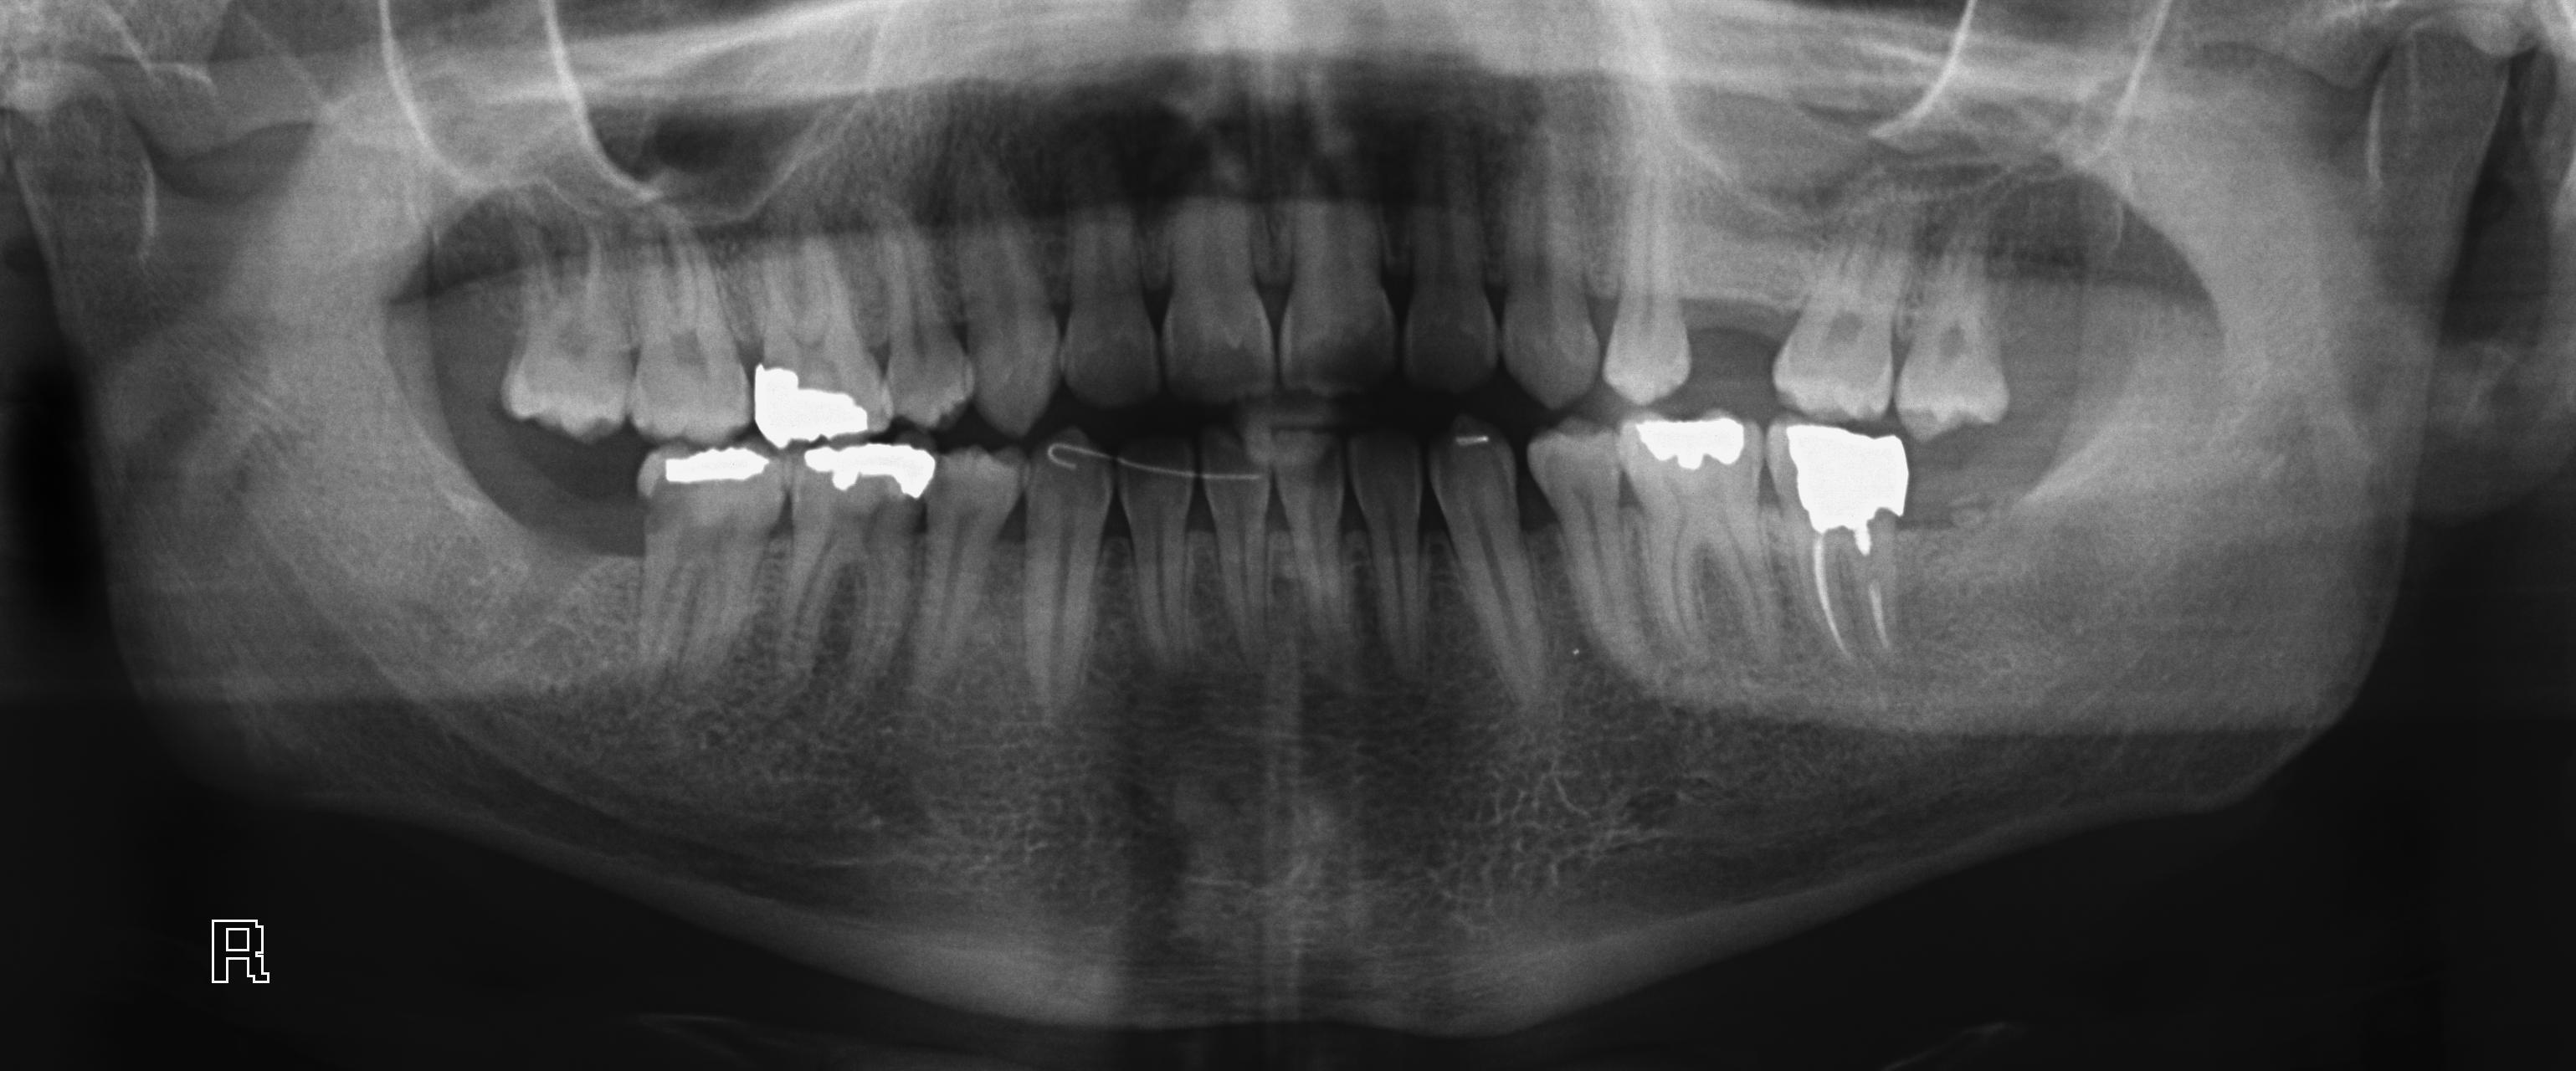Çürük: (1774, 419, 1919, 540), (736, 352, 894, 448), (797, 425, 951, 511), (1612, 414, 1753, 476), (659, 448, 764, 483)
Çürük Bölgesi: (629, 483, 697, 542)
